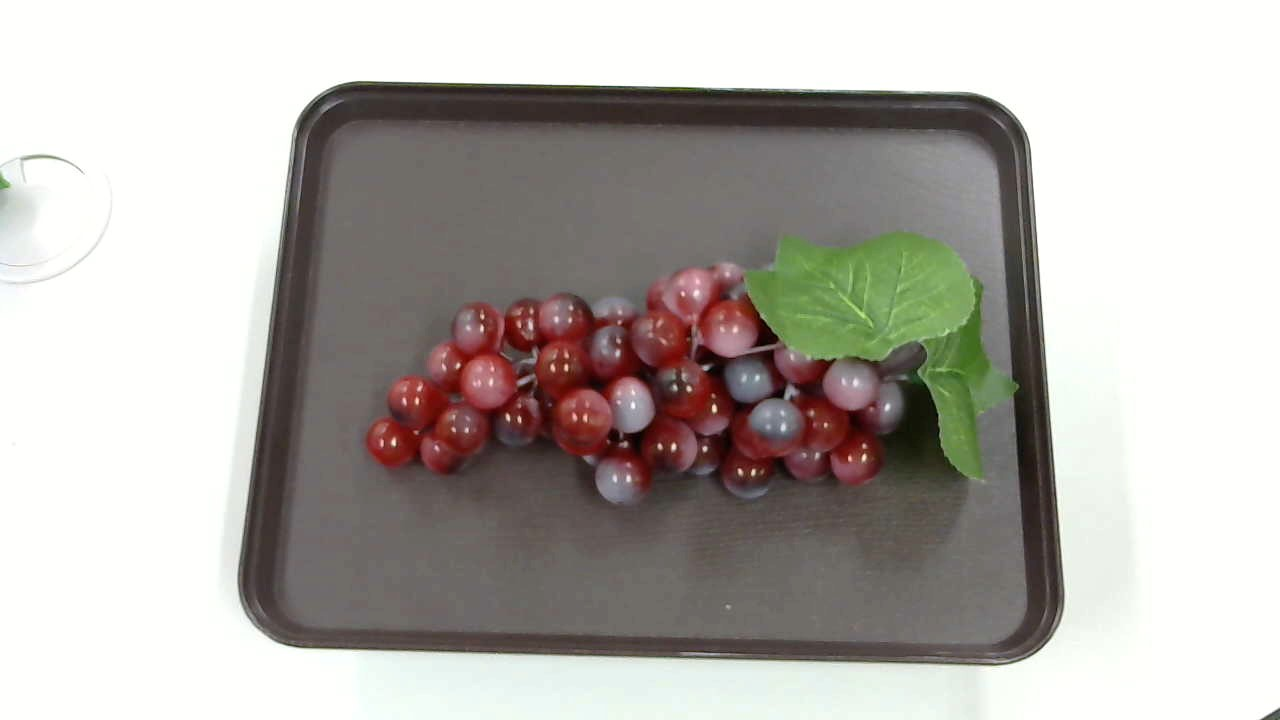grape: (369, 235, 1010, 502)
